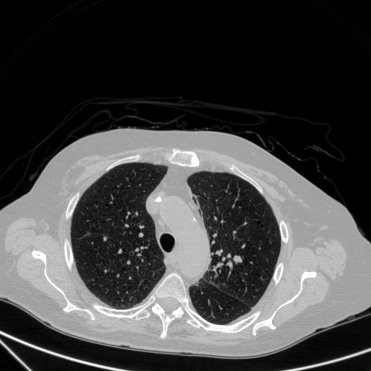nodule: (232, 255, 240, 263)
